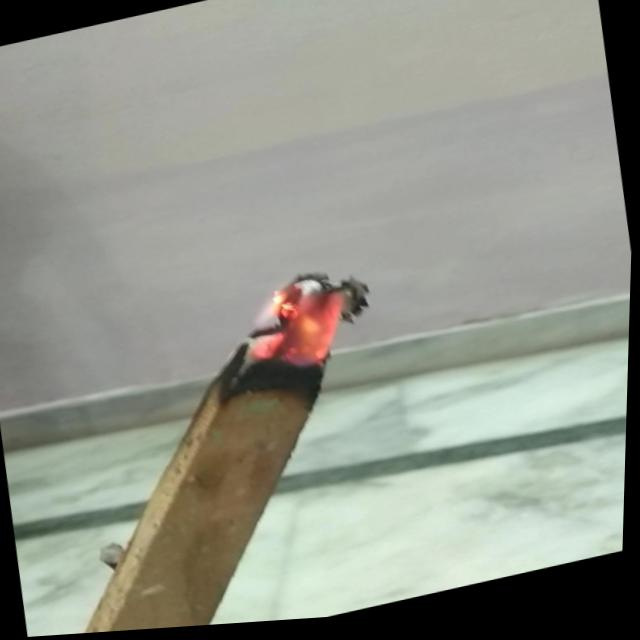fire: (241, 261, 370, 385)
